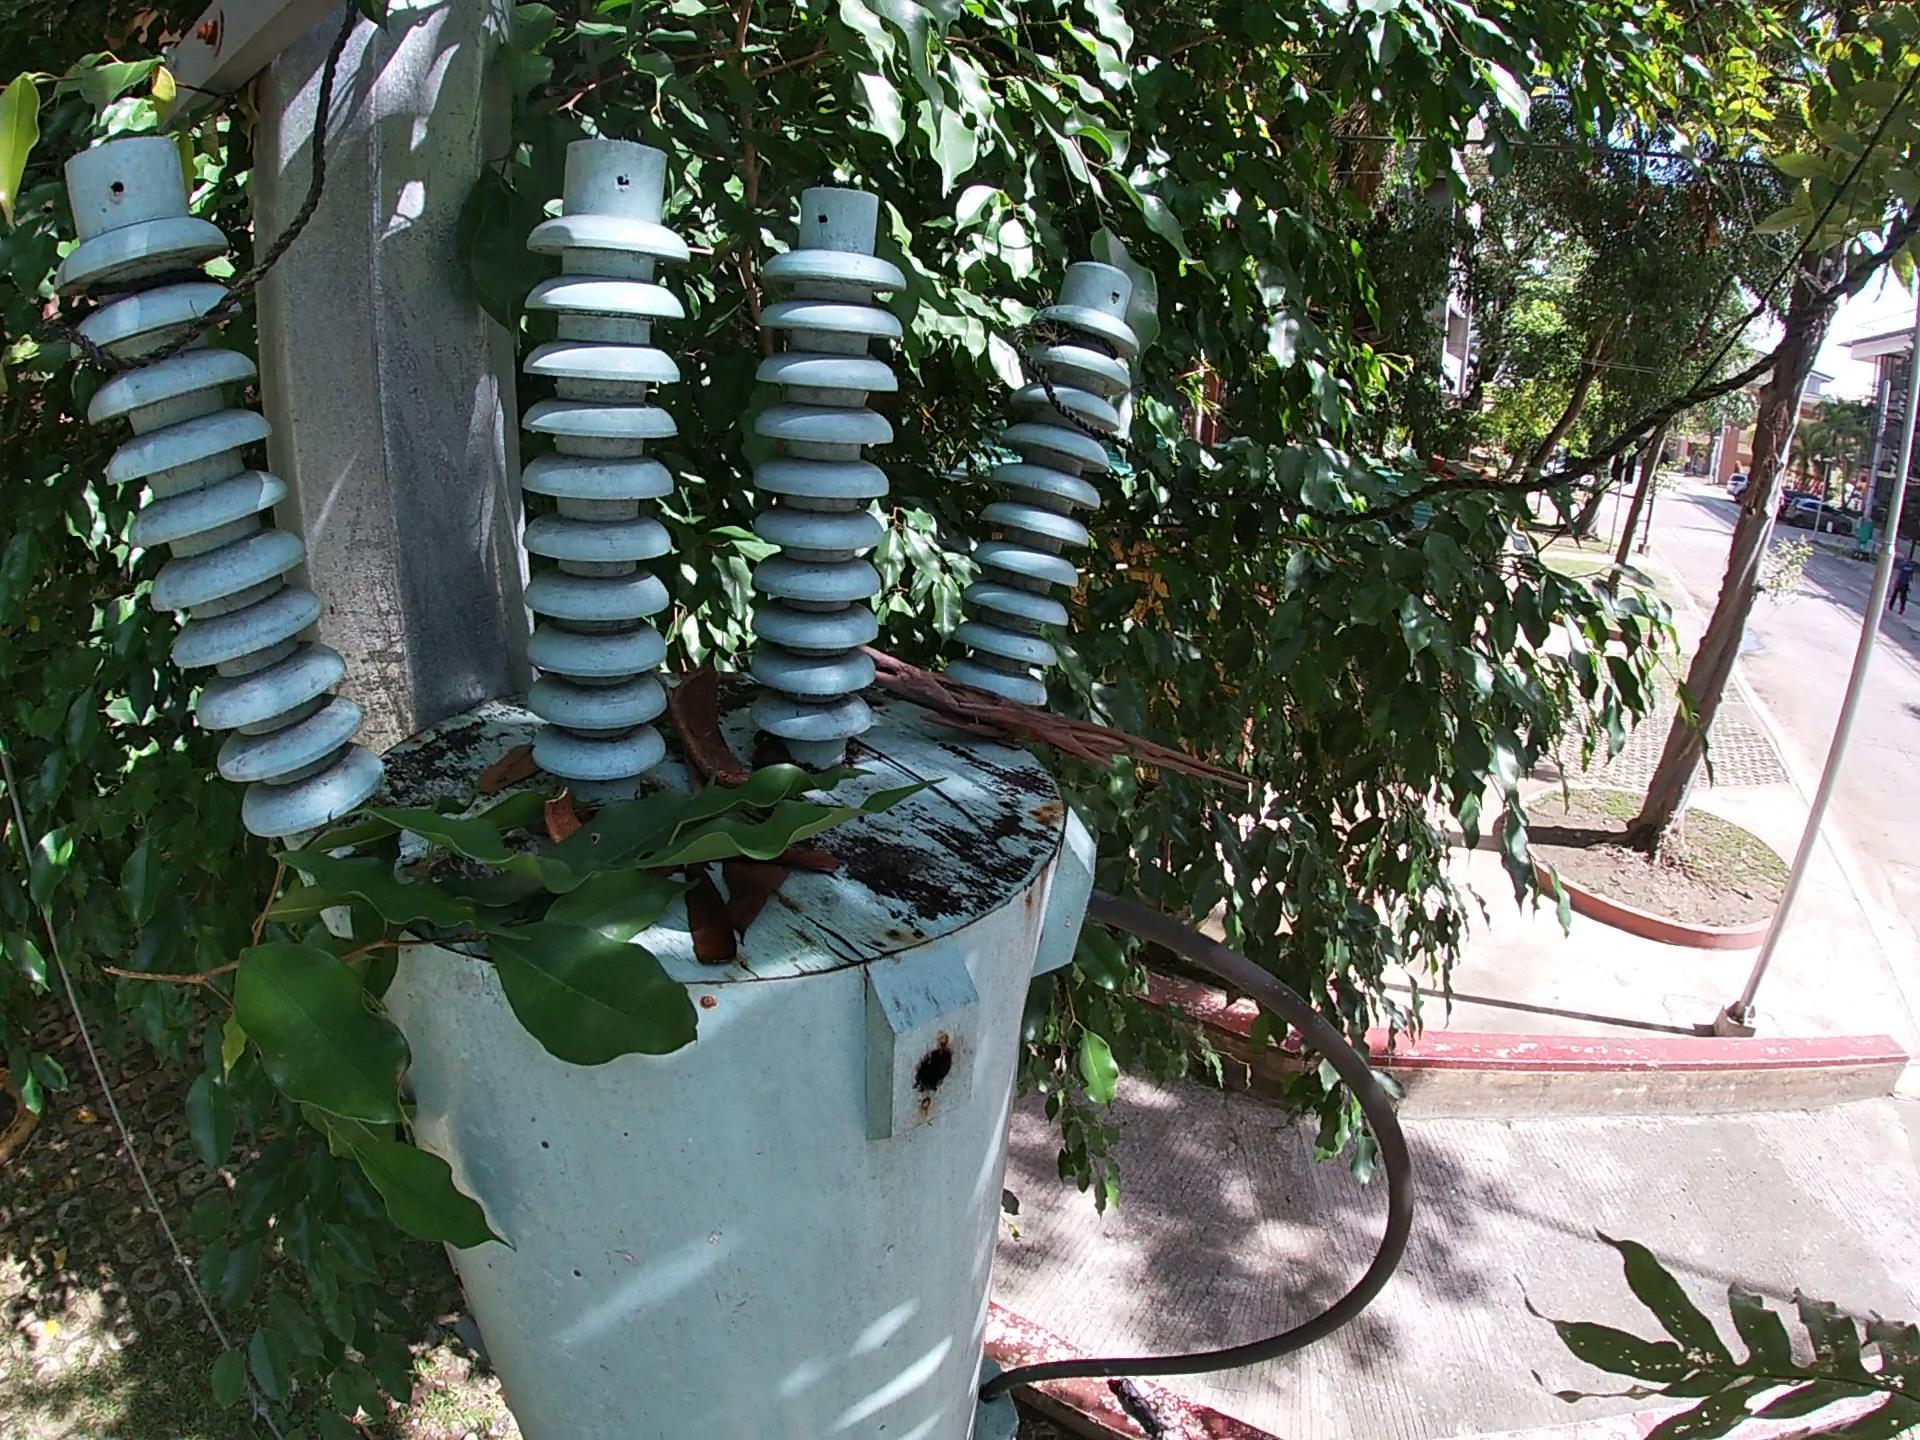branch with leaves: (103, 756, 955, 1252)
leaf: (674, 859, 741, 971), (720, 852, 791, 945), (472, 740, 544, 802), (786, 843, 847, 885)
mahogany fruit: (667, 666, 751, 788), (537, 787, 587, 843)
tree branch: (853, 638, 1265, 802)
